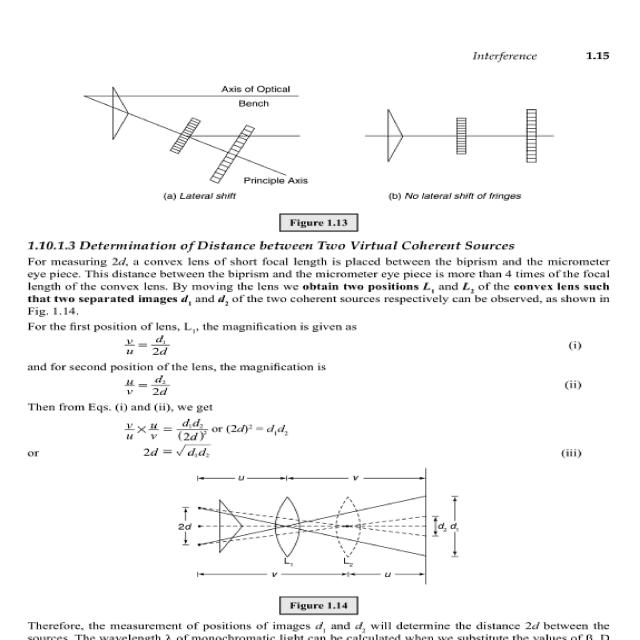diagram: (36, 70, 601, 235), (114, 465, 553, 614)
